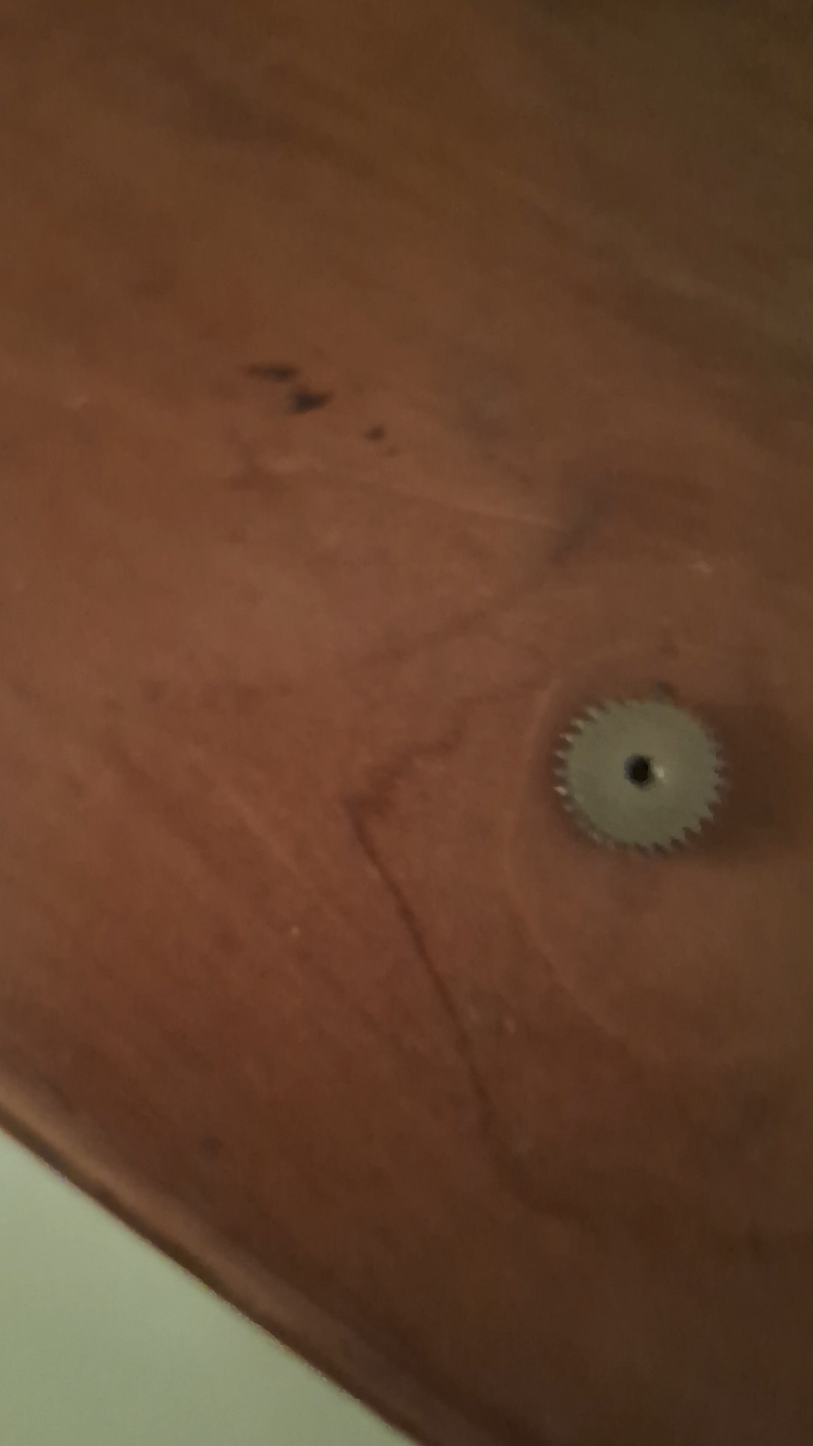spur gear: (557, 699, 722, 851)
